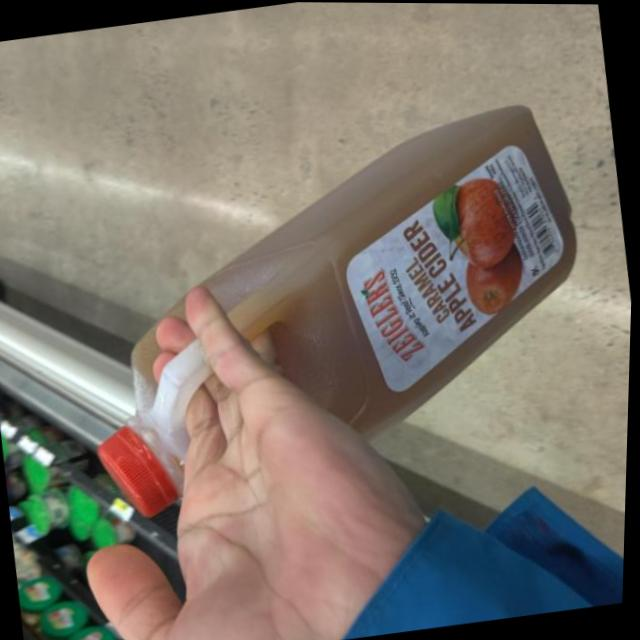Juice: (58, 90, 611, 521)
